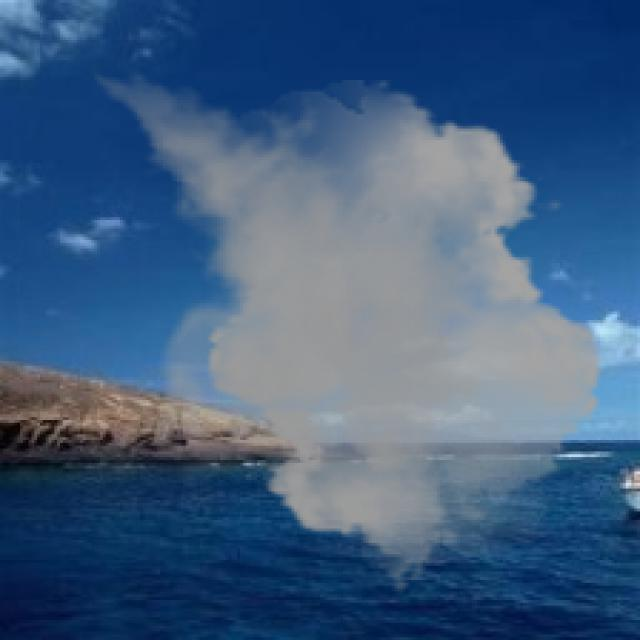smoke: (66, 60, 617, 594)
